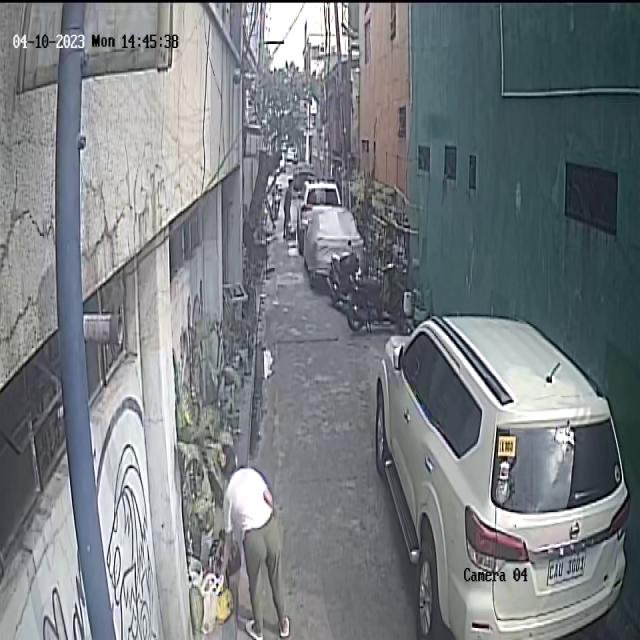human: (202, 444, 290, 640)
trash: (189, 556, 233, 617)
